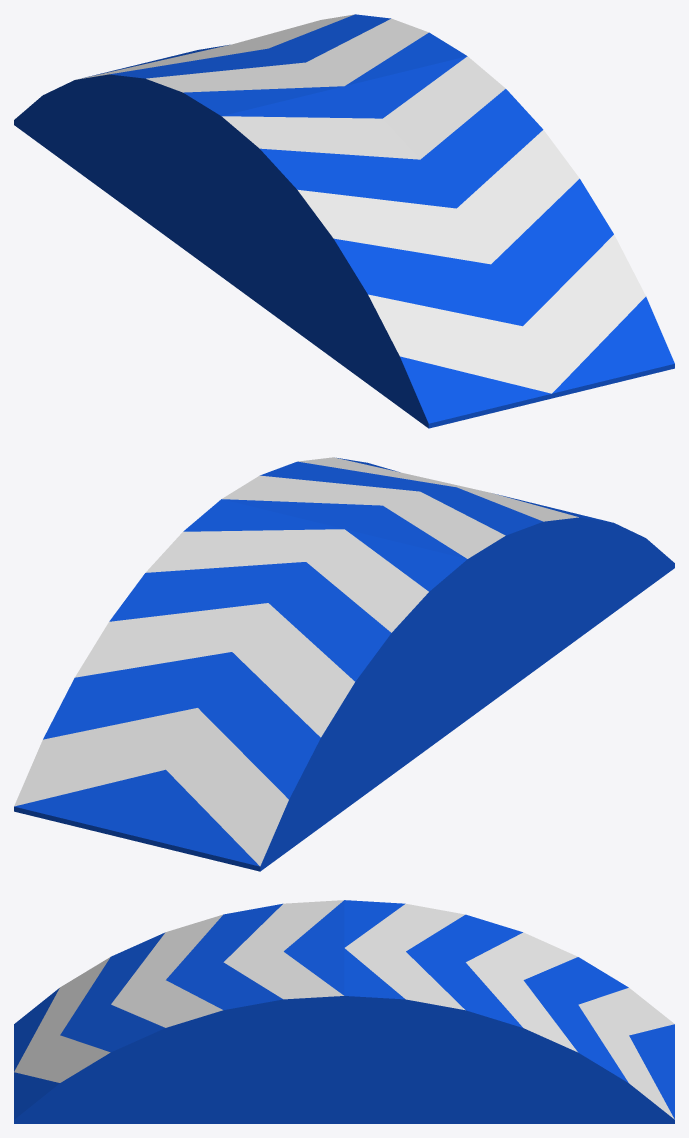
The model's file is Way01_Pont_.fbx.
The picture shows the model from 3 angles, top to bottom: view 1: azimuth 30°, elevation 25°; view 2: azimuth 150°, elevation 25°; view 3: azimuth 270°, elevation 25°; orthographic projection. The views are drawn at different scales.
Parts seen in each view (by area): view 1: Way01_Pont_; view 2: Way01_Pont_; view 3: Way01_Pont_.
Boxes of the visible parts, x1,y1,x2,y2 form: Way01_Pont_: [14, 14, 674, 428]; Way01_Pont_: [14, 457, 674, 871]; Way01_Pont_: [14, 900, 674, 1123].
Bounding box in the file's own units: 4 × 11.67 × 2.49.
